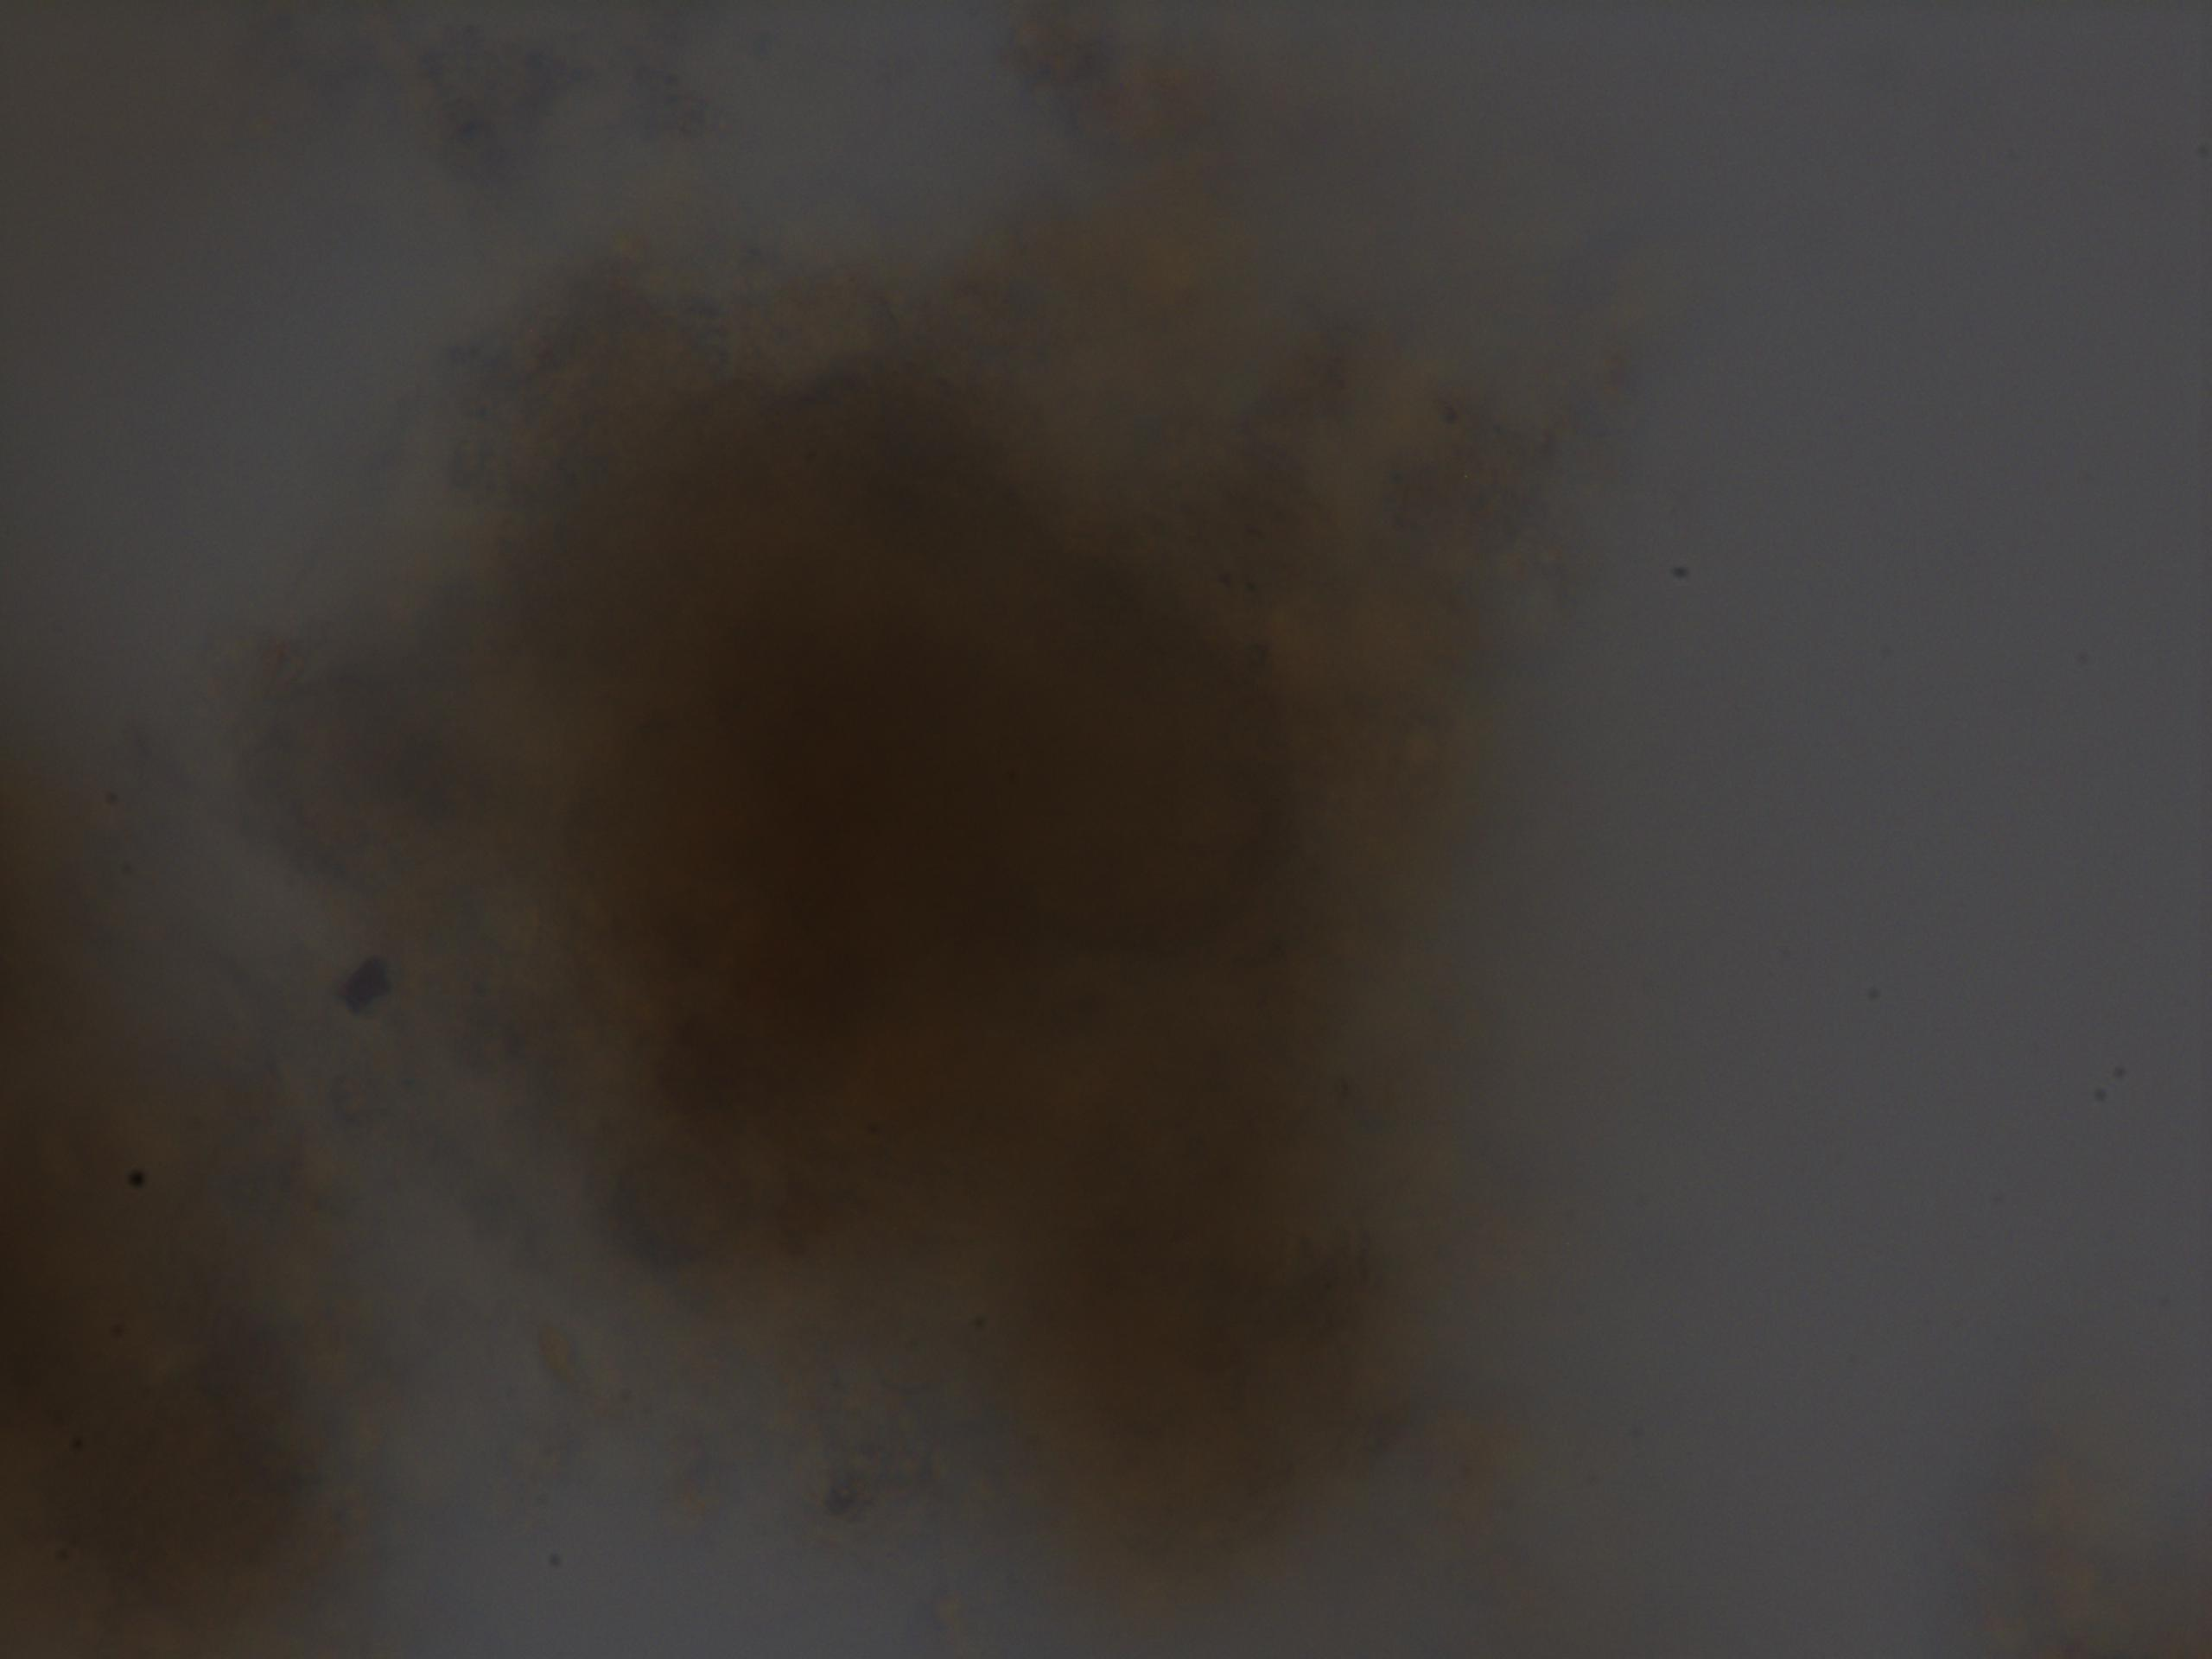spherical_floc: (341, 223, 1460, 1534)
